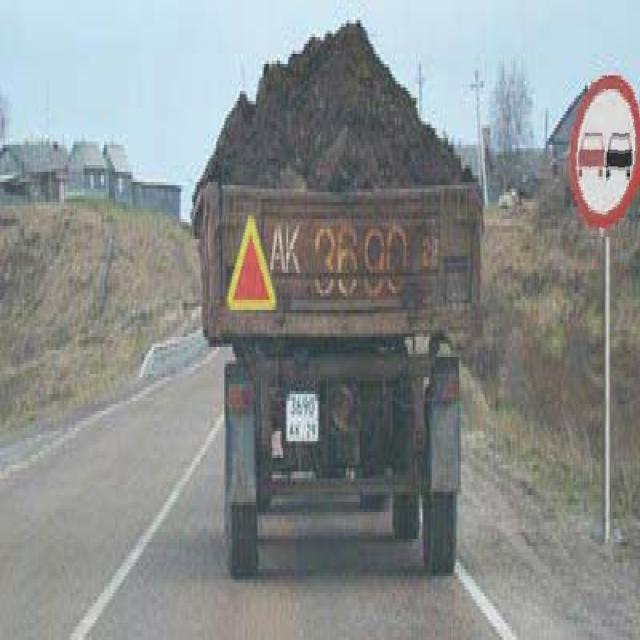no overtaking: (565, 70, 640, 237)
